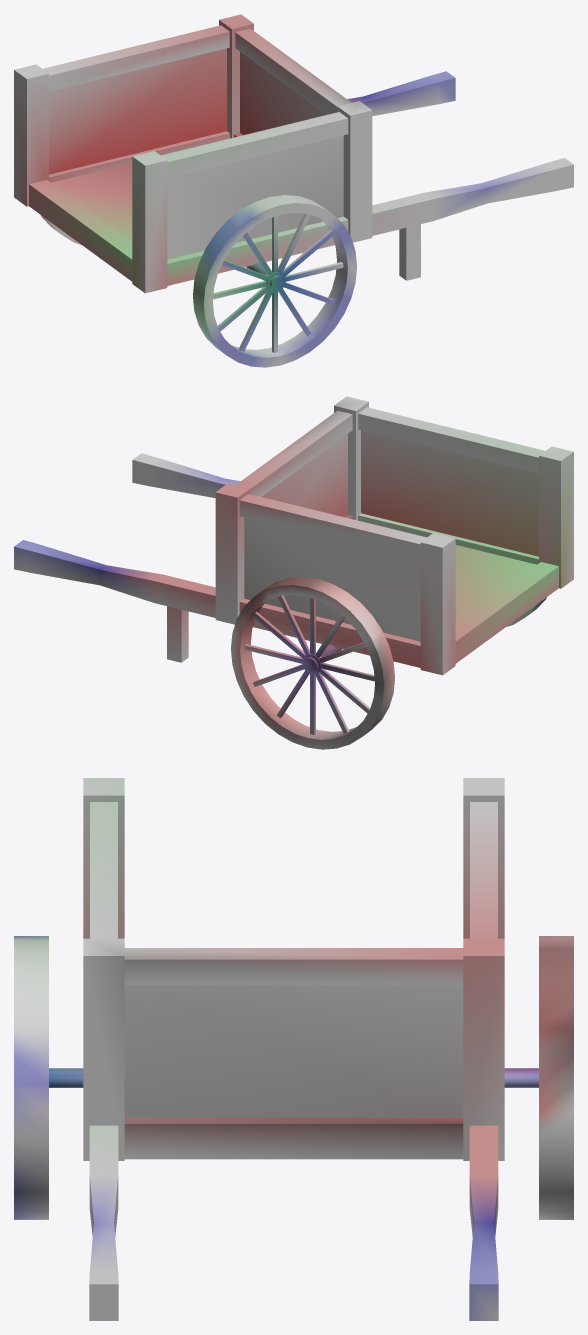
Rendered from Cart_1.fbx.
3 renders of one model, top to bottom at view 1: azimuth 30°, elevation 25°; view 2: azimuth 150°, elevation 25°; view 3: azimuth 270°, elevation 25°, orthographic. The views are drawn at different scales.
Visible parts, largest first — view 1: Cart_1; view 2: Cart_1; view 3: Cart_1.
Part boxes in pixels (<box>): Cart_1: <box>14,14,573,367</box>; Cart_1: <box>14,396,573,749</box>; Cart_1: <box>14,778,573,1320</box>.
Size of the model in its own units: 2.1 by 0.9866 by 1.47.
